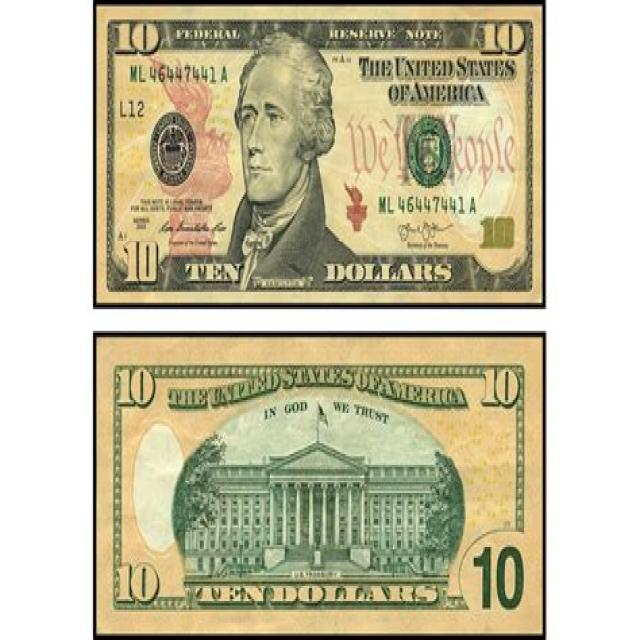Ten: (98, 4, 542, 305), (98, 340, 540, 635)
